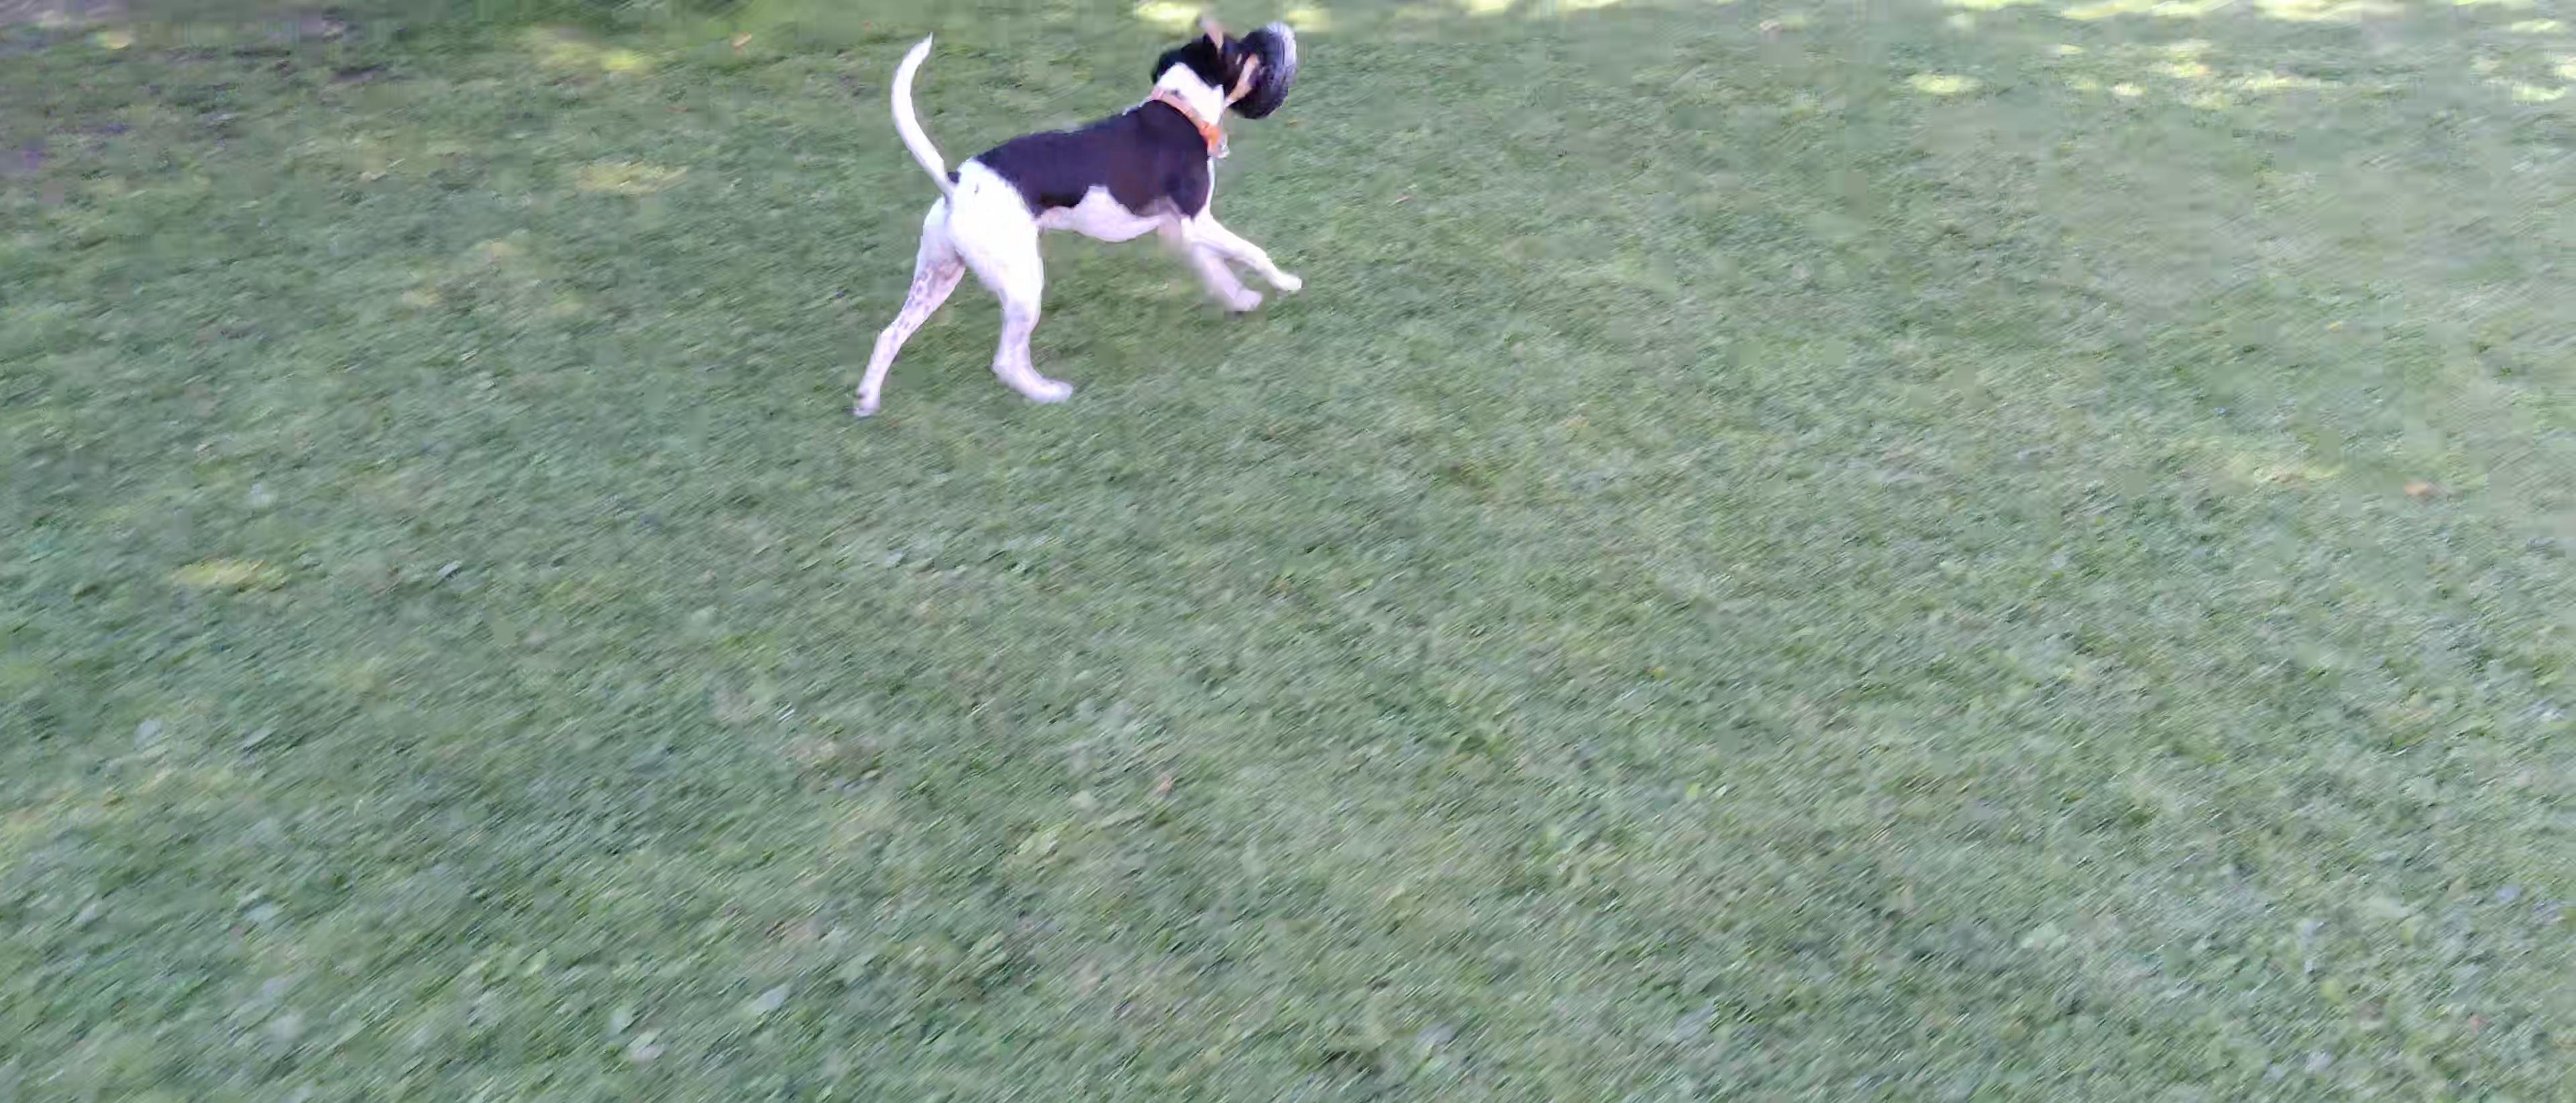Dog: (836, 0, 1308, 421)
